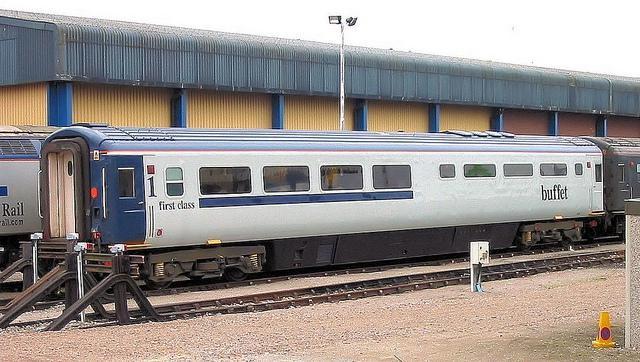Train: (36, 124, 640, 287), (0, 125, 65, 237)
